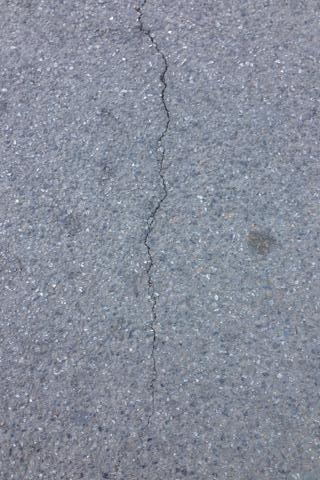A: (130, 3, 173, 403)
